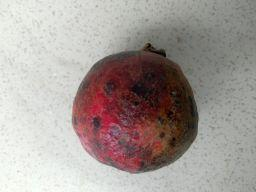pomegranate: (72, 43, 198, 173)
